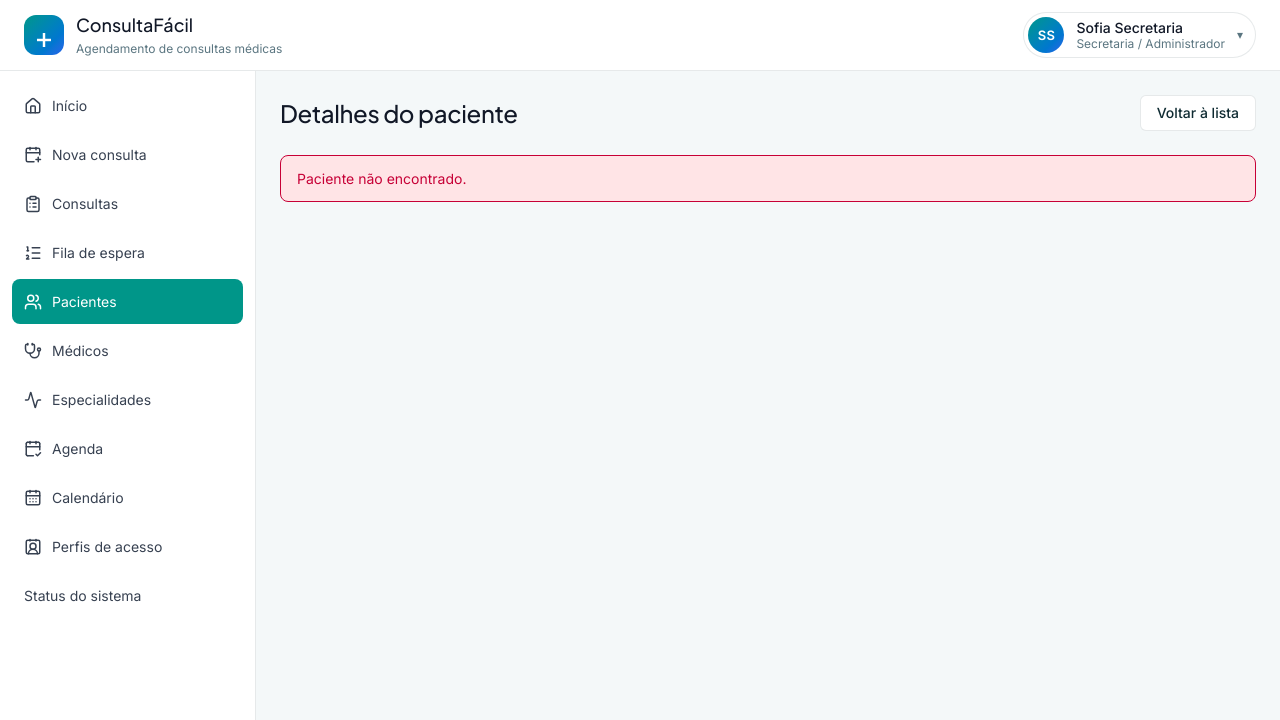
it: cadastros padronizados › informa quando o paciente não existe e permite voltar à lista
Expected: the message reads "Paciente não encontrado.", [297,170,466,187]
Expected: the button "Editar" is not shown
Click the link "Voltar à lista" at coordinates (1198, 113), box [1140,95,1256,131]
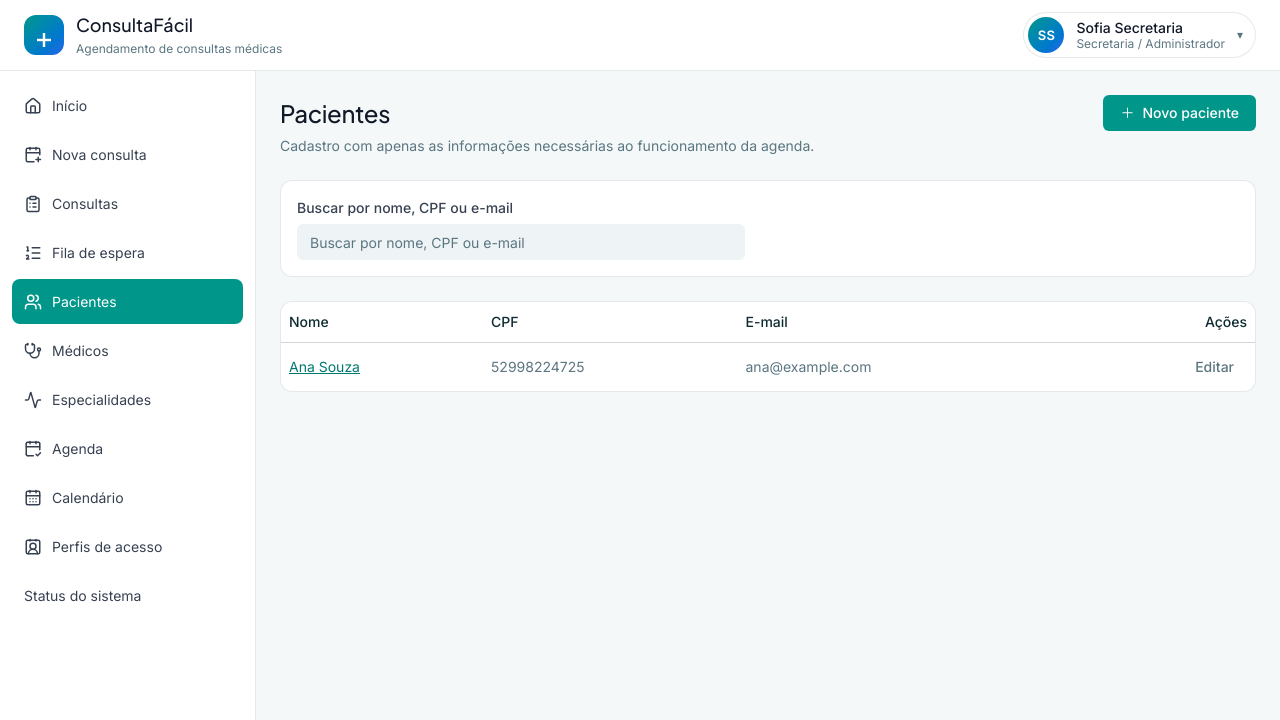
Expected: the link "Ana Souza" is shown, [289,358,360,375]
